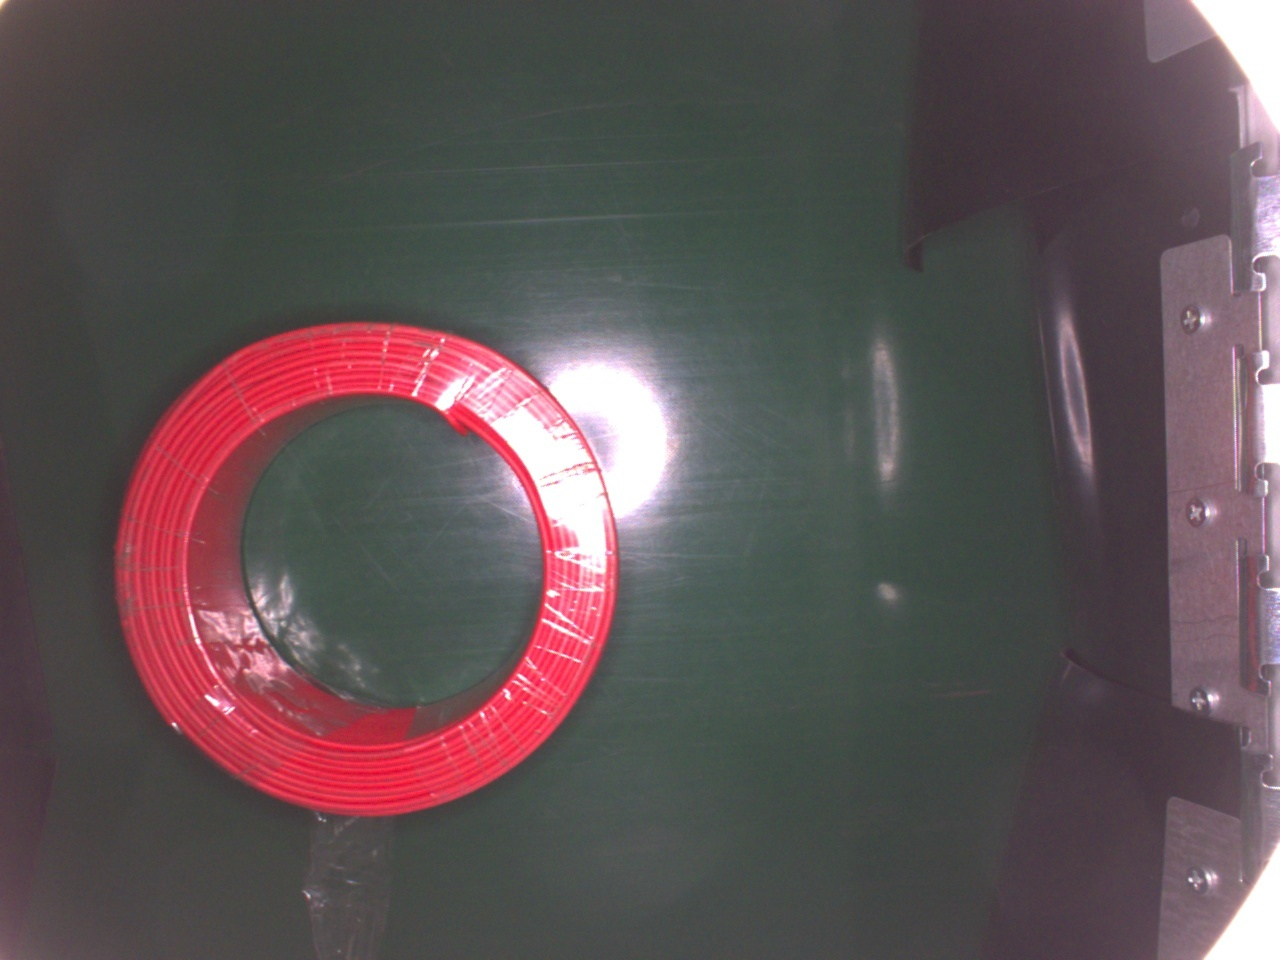red: (113, 317, 619, 820)
